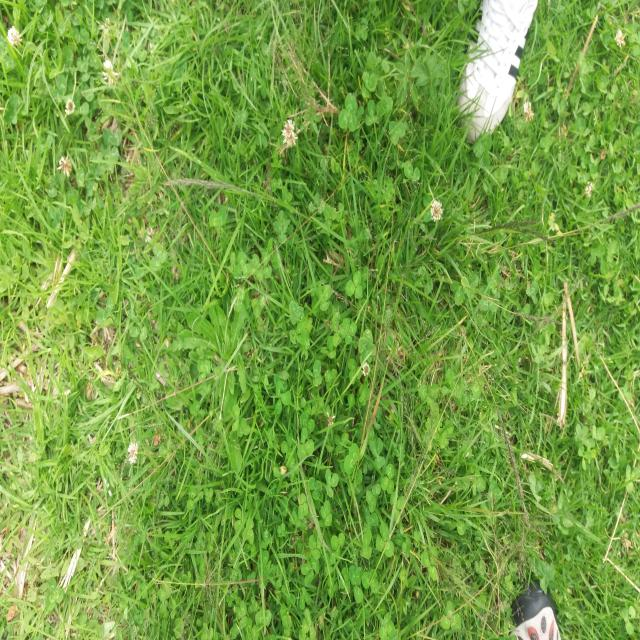Four Leaf Clover: (358, 329, 376, 367)
